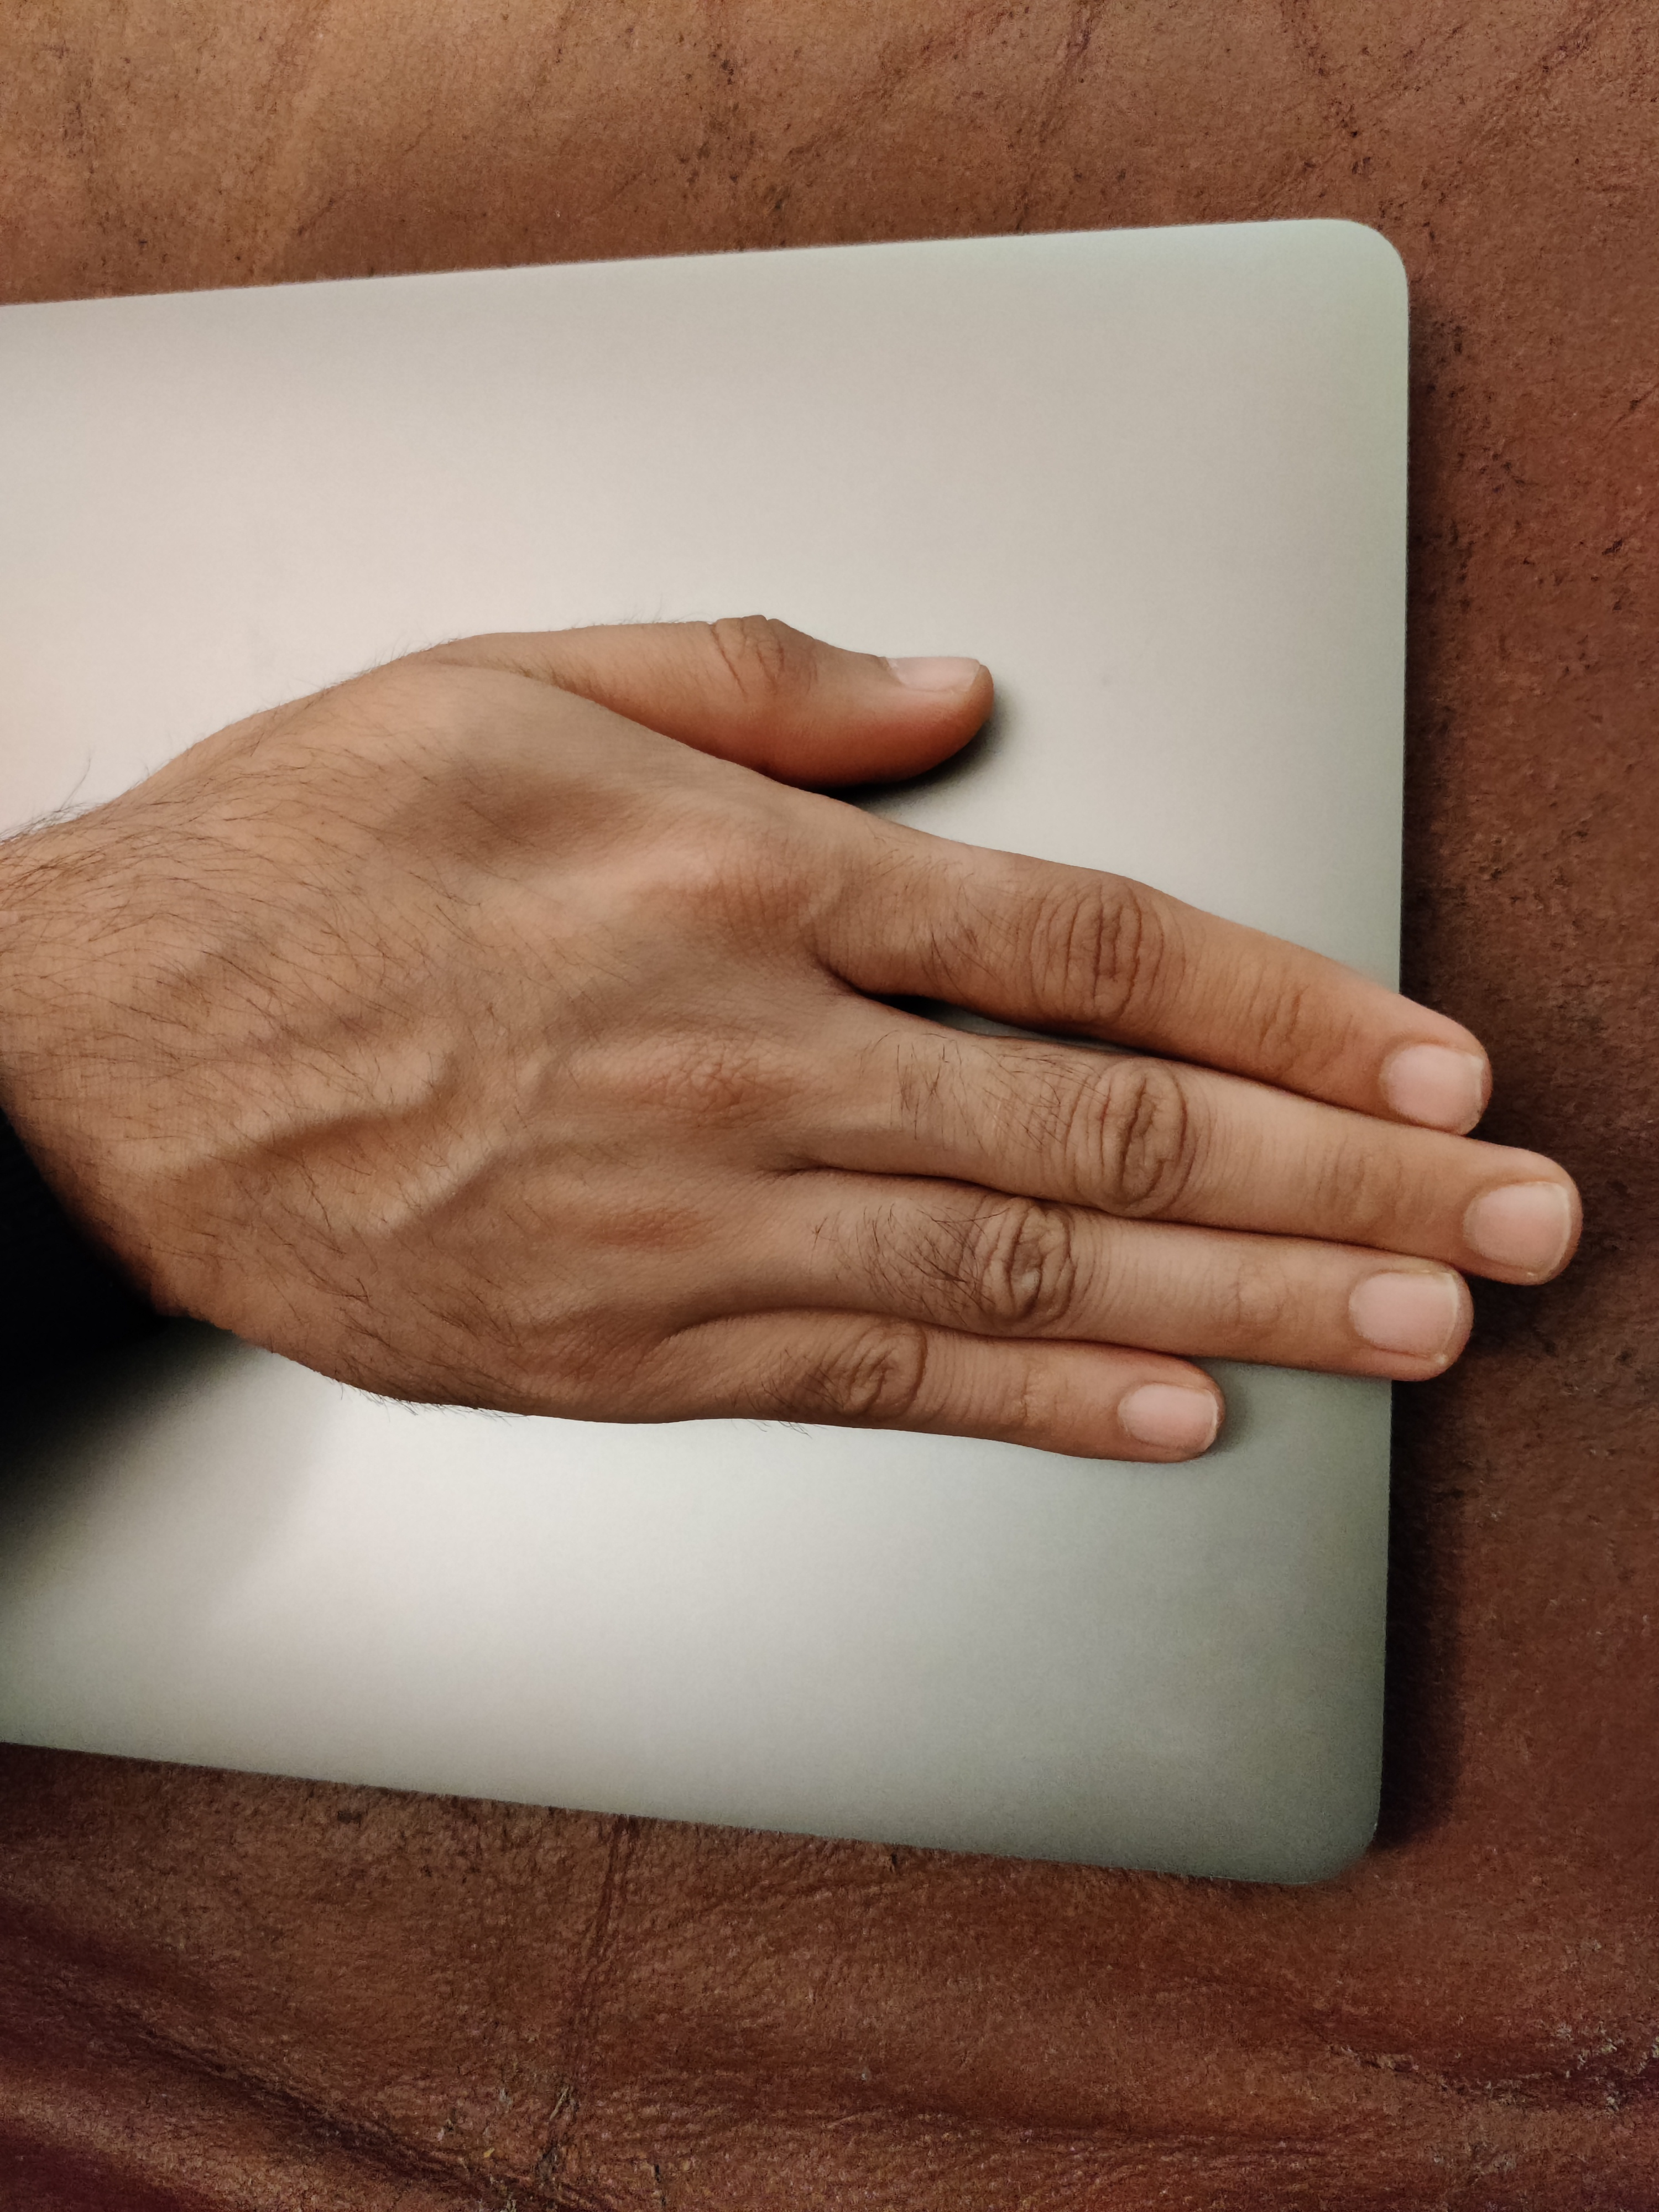left: (17, 228, 1649, 1700)
